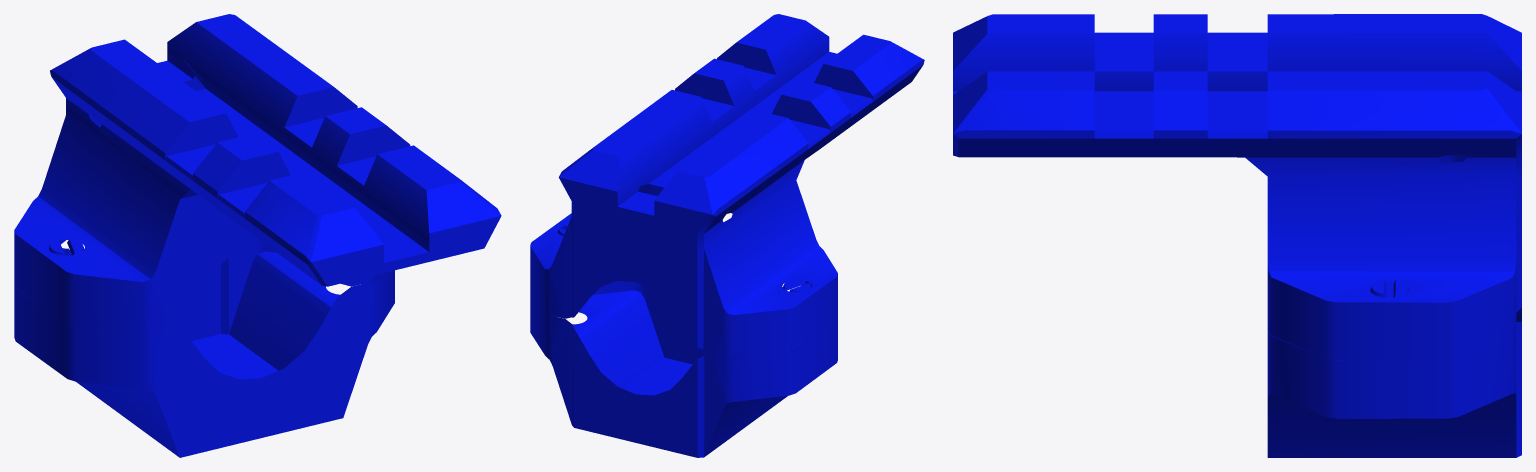
File: DFS_LOD0.FBX
3 views of the same model, side by side, from view 1: azimuth 30°, elevation 25°; view 2: azimuth 150°, elevation 25°; view 3: azimuth 270°, elevation 25° (orthographic). The views are drawn at different scales.
Visible parts, largest first — view 1: DF_BaseBodyTop_LOD0, DF_BaseBodyTop1_LOD0; view 2: DF_BaseBodyTop_LOD0, DF_BaseBodyTop1_LOD0; view 3: DF_BaseBodyTop_LOD0, DF_BaseBodyTop1_LOD0.
Part boxes in pixels (box(x1,y1,x2,y2)): DF_BaseBodyTop_LOD0: box(14, 14, 501, 335); DF_BaseBodyTop1_LOD0: box(14, 240, 394, 457); DF_BaseBodyTop_LOD0: box(530, 14, 924, 358); DF_BaseBodyTop1_LOD0: box(530, 281, 837, 457); DF_BaseBodyTop_LOD0: box(953, 14, 1521, 360); DF_BaseBodyTop1_LOD0: box(1267, 281, 1521, 457).
Size of the model in its own units: 3.61 by 3.51 by 5.
